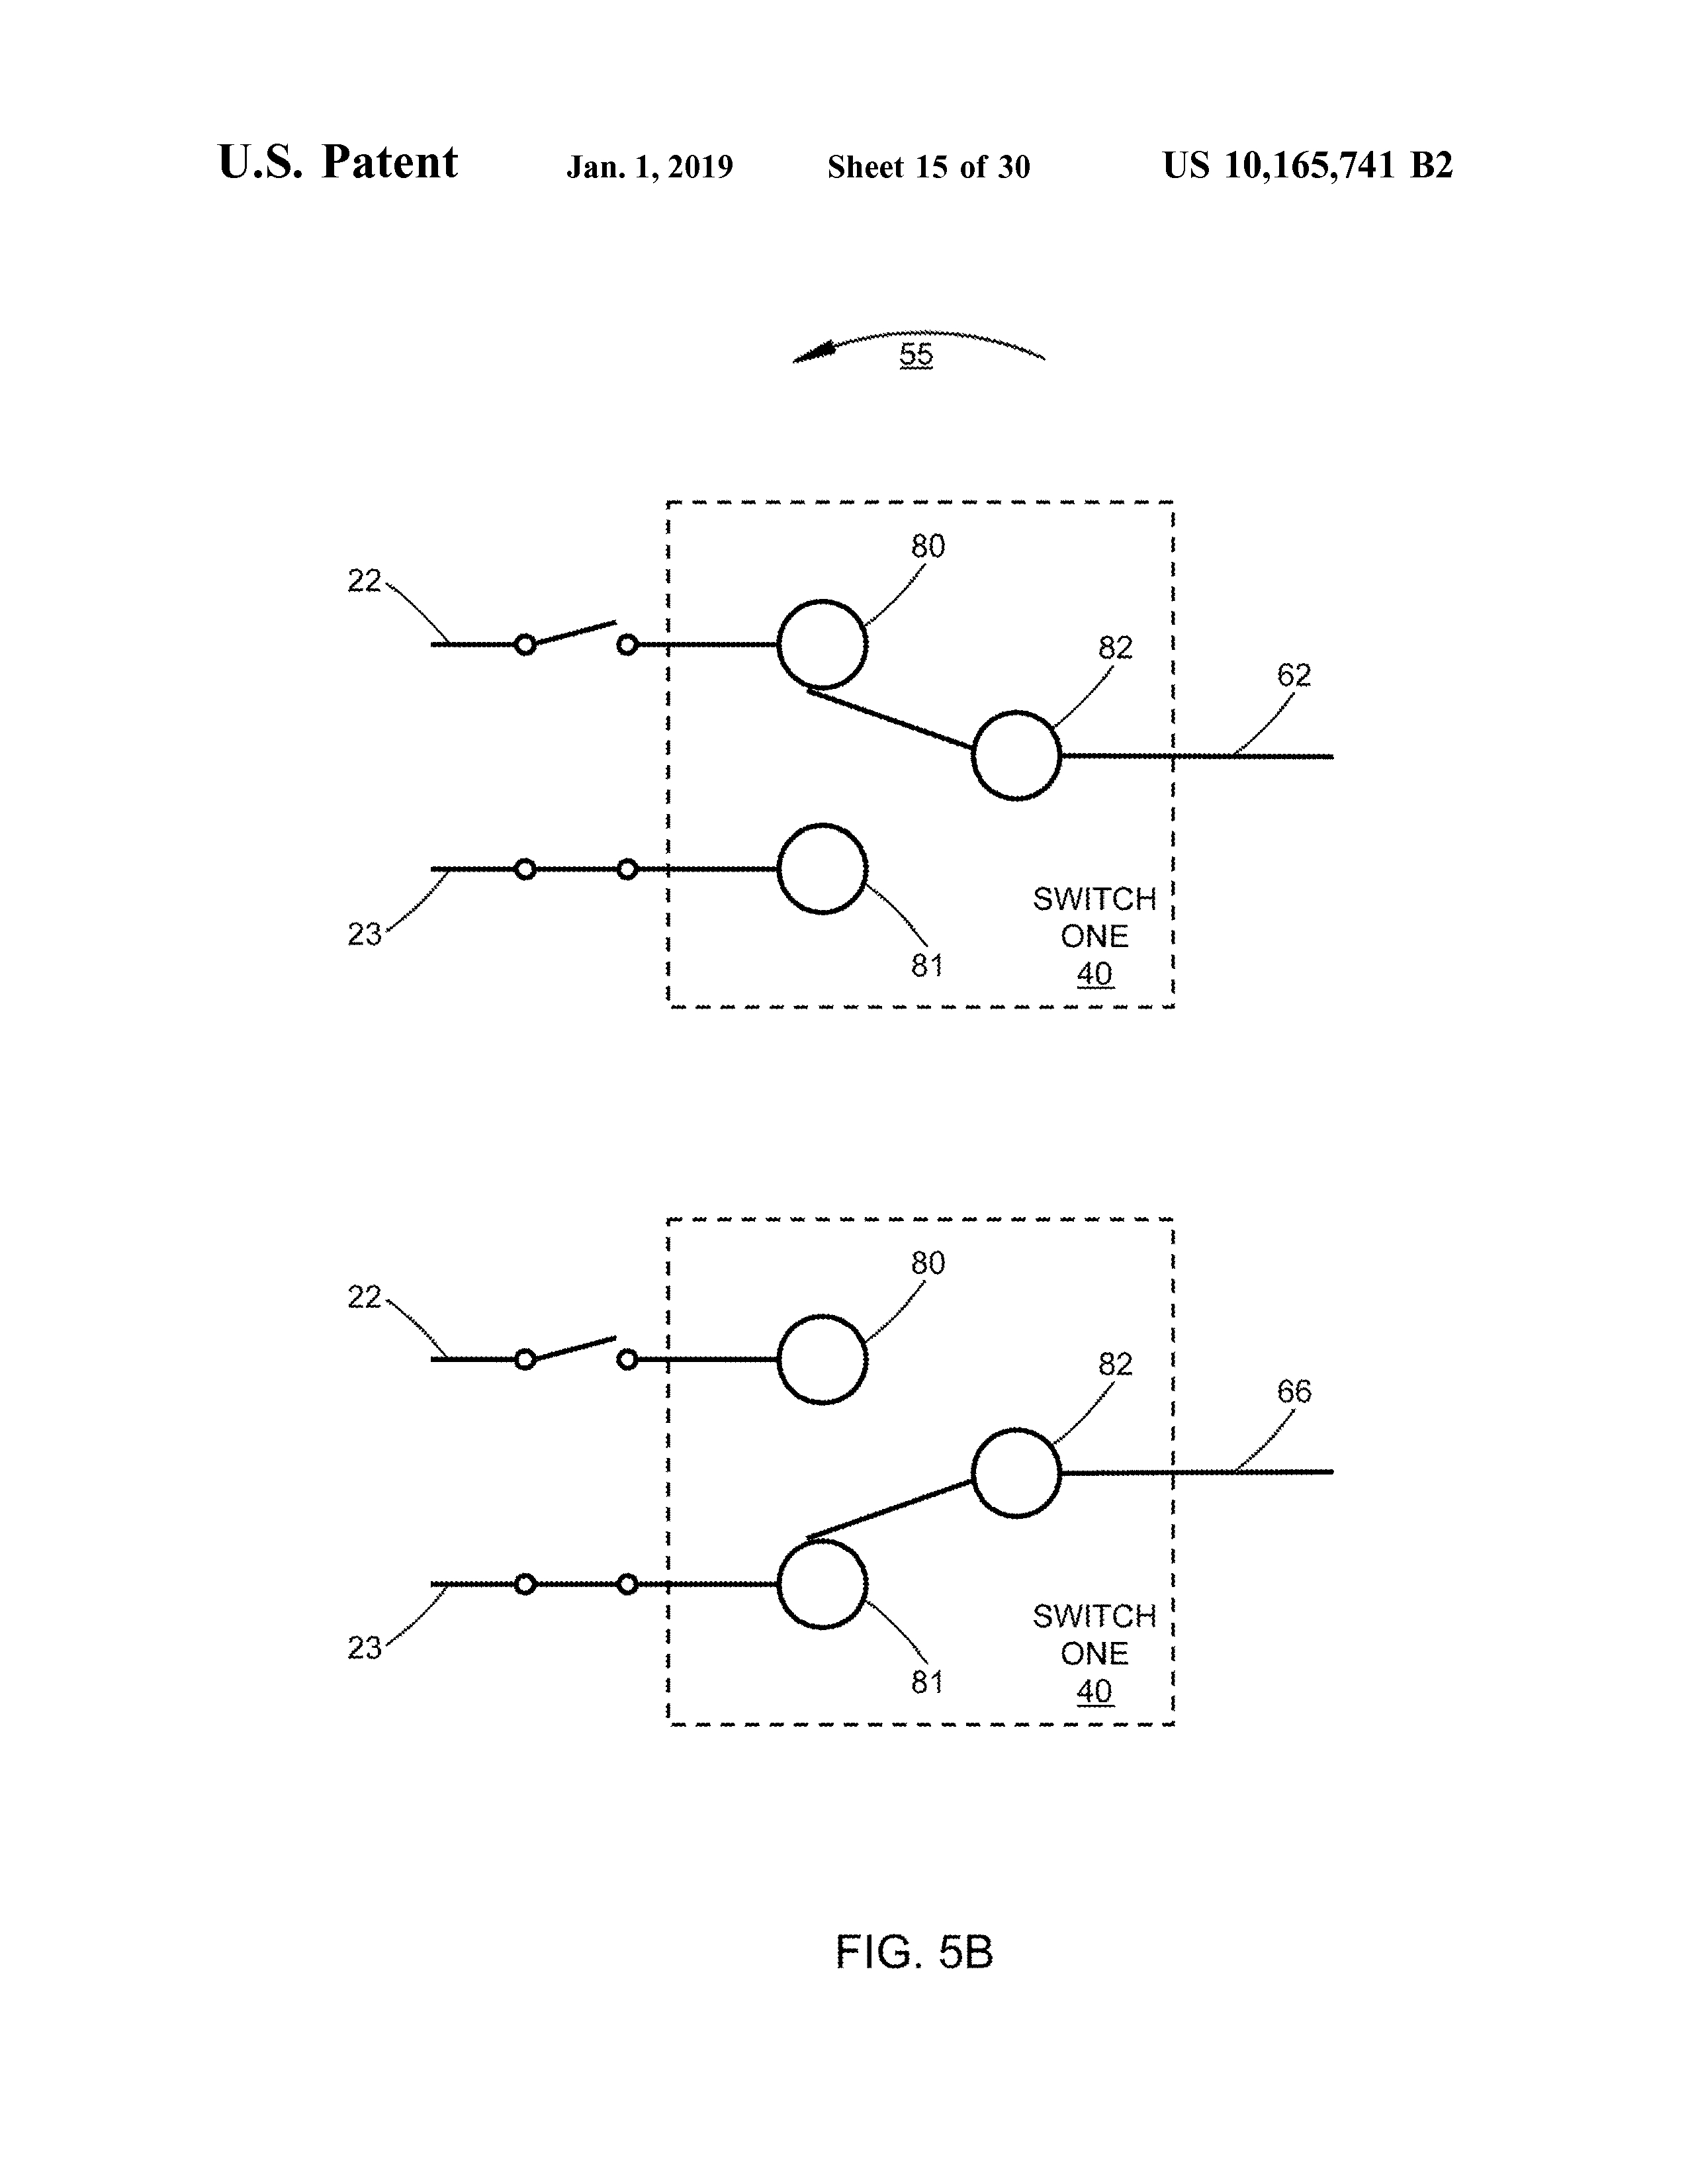patent image: (277, 279, 1361, 2024)
